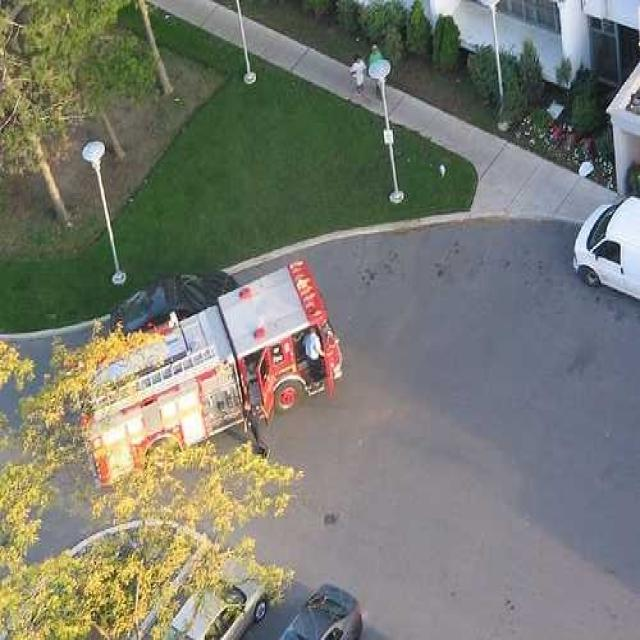ambulance: (77, 258, 346, 485)
